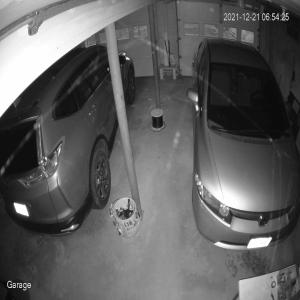honda civic: (186, 37, 300, 251)
honda crv: (0, 44, 136, 237)
tool bucket: (109, 197, 141, 239)
